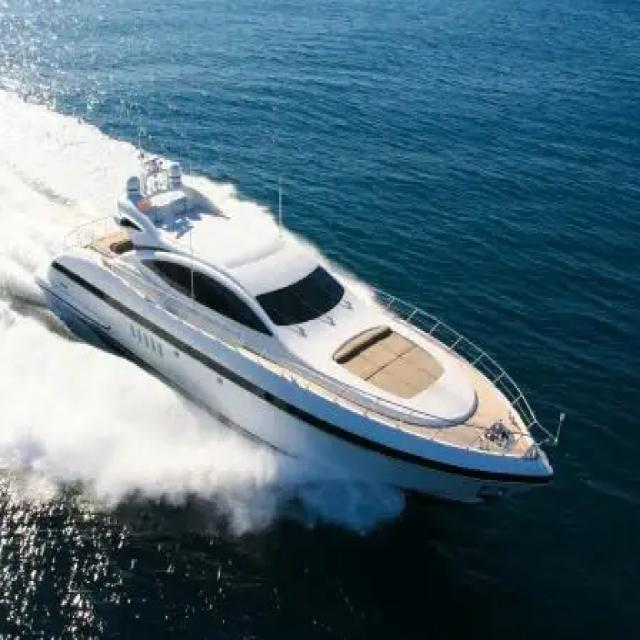houseboat: (41, 124, 550, 503)
